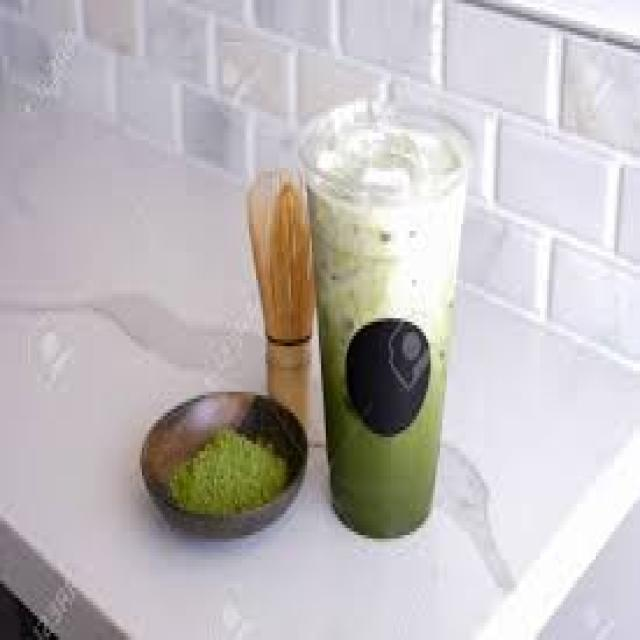bottle: (300, 101, 467, 536)
